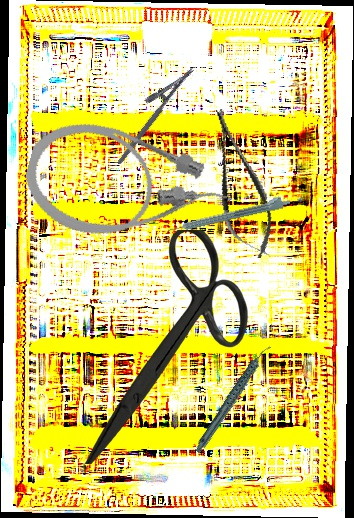Cannula: (15, 108, 237, 267)
Handpiece: (176, 343, 291, 455), (166, 193, 291, 235)
Iris Scissors: (82, 230, 249, 464)
Micro Scissor: (198, 103, 282, 264)
Needle Holder: (103, 56, 196, 166)
